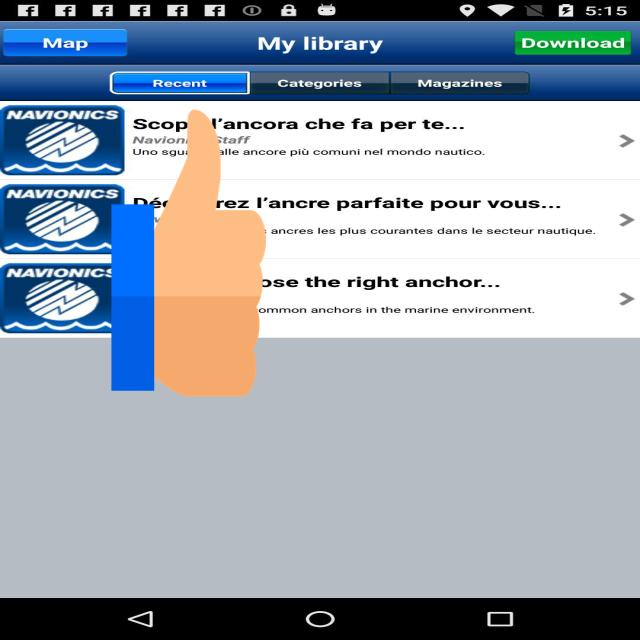privacy zuckering: (111, 102, 266, 404)
